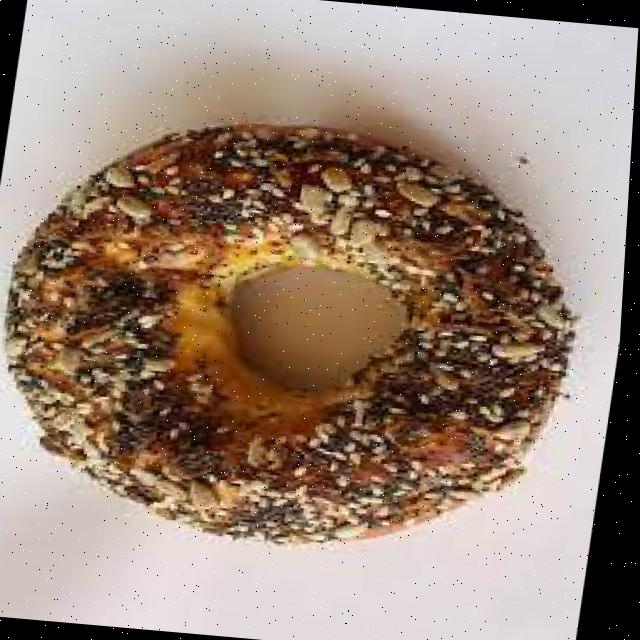Bagel: (10, 123, 575, 543)
